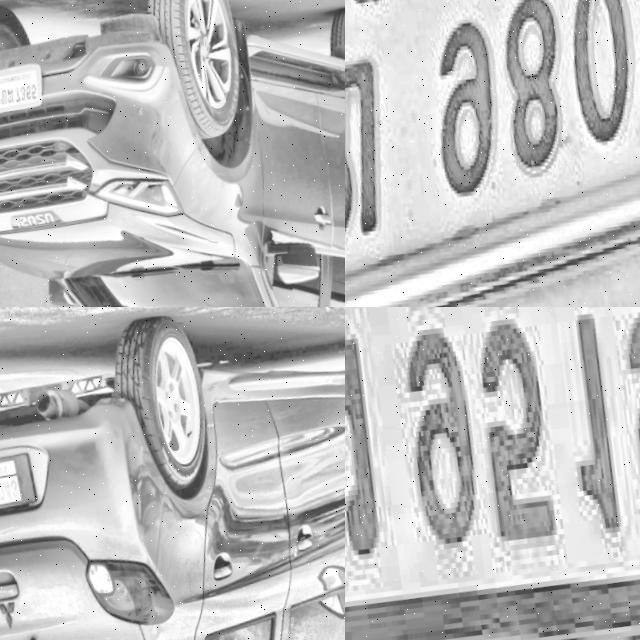license-plate: (345, 307, 640, 640), (345, 0, 640, 307), (0, 45, 54, 124), (0, 447, 40, 520)
